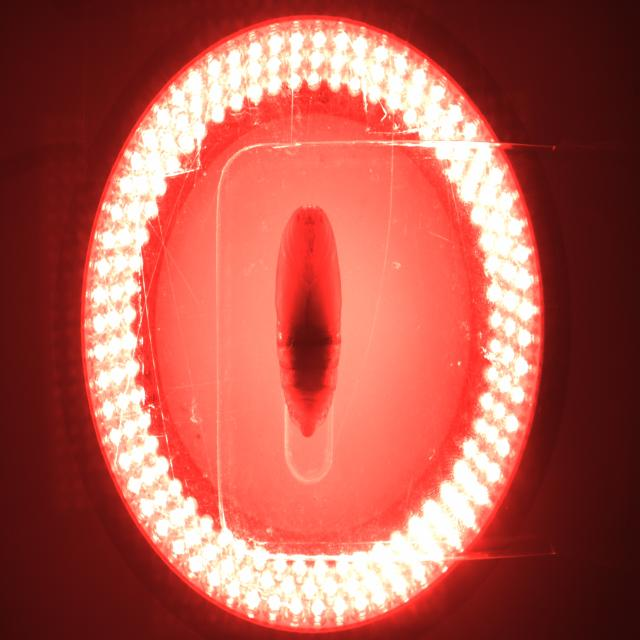female: (306, 406, 314, 416)
